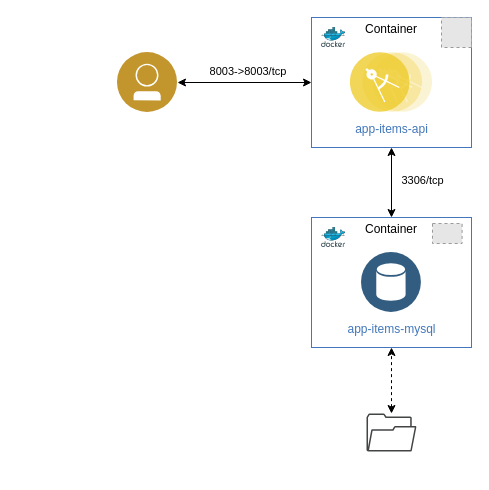
Some shapes in this 489 by 490 pixel diagram are drawn without their labels. Grey dashed boxes stand in for pictures. Here are the shapes that lost their labels. From the top down, the centre of each, then its label:
(x=147, y=82): curl --request POST http://localhost:8003/v1/data
(x=391, y=432): data/storage/app-items-mysql
